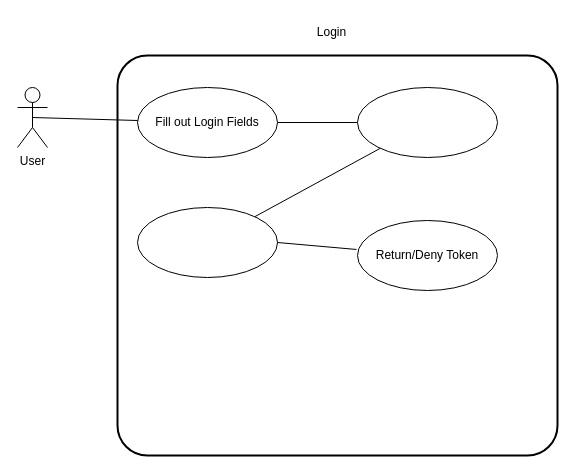
Some shapes in this 576 by 473 pixel diagram are drawn without their labels. The box of each missing label's shape, as (x1, y1, x2, y2) in pixels:
Check user Input: (356, 86, 498, 158)
Validate User: (136, 206, 278, 278)
